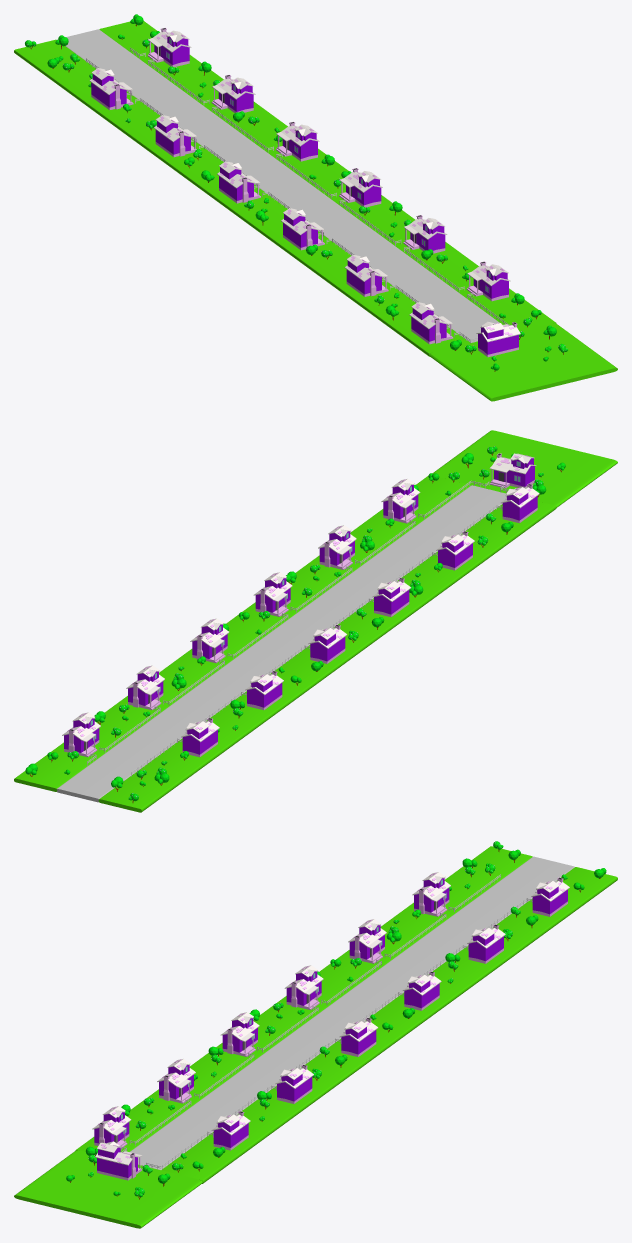
Rendered from level end joined.fbx.
3 views of the same model, one above another, from view 1: azimuth 30°, elevation 25°; view 2: azimuth 150°, elevation 25°; view 3: azimuth 330°, elevation 25° (orthographic).
Visible parts, largest first — view 1: floor_levelend_straight.003, floor_levelend_straight, Cube.006; view 2: floor_levelend_straight.003, floor_levelend_straight, Cube.006; view 3: floor_levelend_straight.003, floor_levelend_straight, Cube.006.
Boxes of the visible parts, x1,y1,x2,y2 form: floor_levelend_straight.003: [14, 14, 617, 401]; floor_levelend_straight: [57, 29, 502, 342]; Cube.006: [86, 47, 509, 343]; floor_levelend_straight.003: [14, 430, 617, 812]; floor_levelend_straight: [57, 485, 506, 802]; Cube.006: [87, 480, 508, 776]; floor_levelend_straight.003: [14, 841, 617, 1228]; floor_levelend_straight: [129, 856, 574, 1169]; Cube.006: [121, 874, 536, 1169].
Bounding box in the file's own units: 1481 × 345 × 9555.
